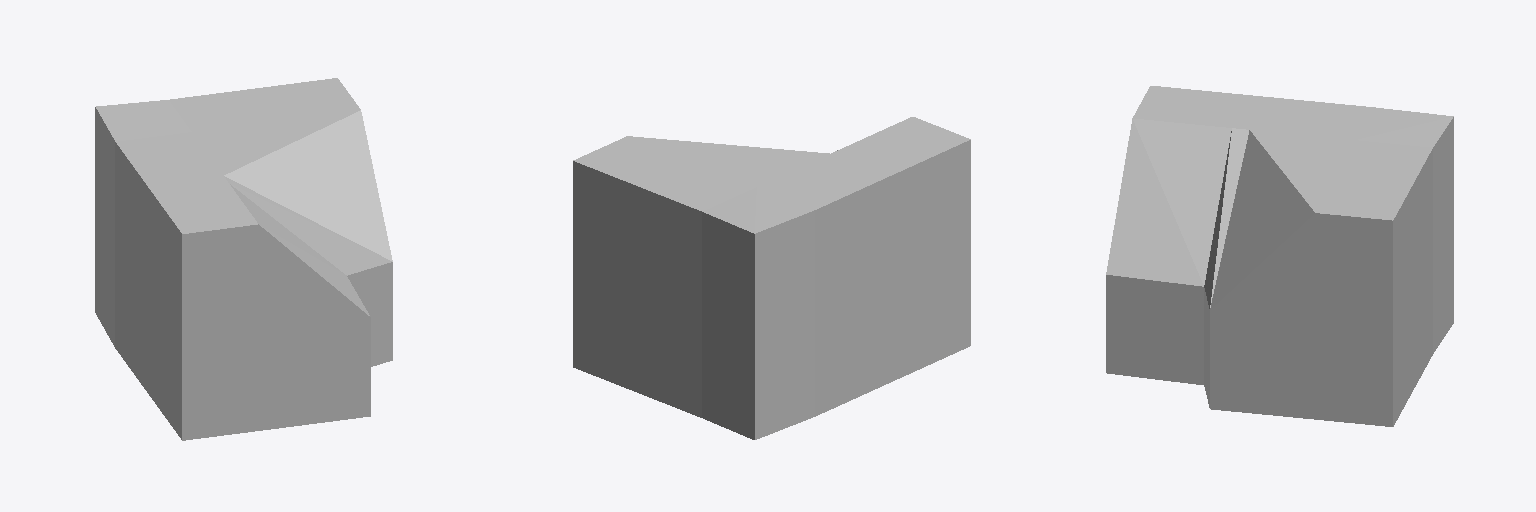
Rendered from multiball_ship_collision.obj.
3 renders of one model, left to right at view 1: azimuth 30°, elevation 25°; view 2: azimuth 150°, elevation 25°; view 3: azimuth 270°, elevation 25°, orthographic.
Visible parts, largest first — view 1: Cube_Cube.001; view 2: Cube_Cube.001; view 3: Cube_Cube.001.
Part boxes in pixels (bbox=[...]): Cube_Cube.001: bbox=[95, 78, 392, 440]; Cube_Cube.001: bbox=[573, 117, 970, 439]; Cube_Cube.001: bbox=[1106, 86, 1453, 426].
Bounding box in the file's own units: 2.51 × 1.79 × 2.73.